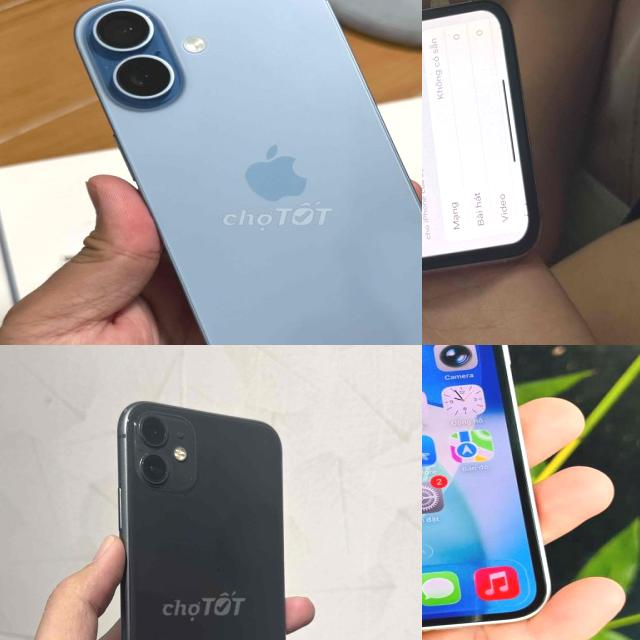scratch: (125, 409, 201, 484)
